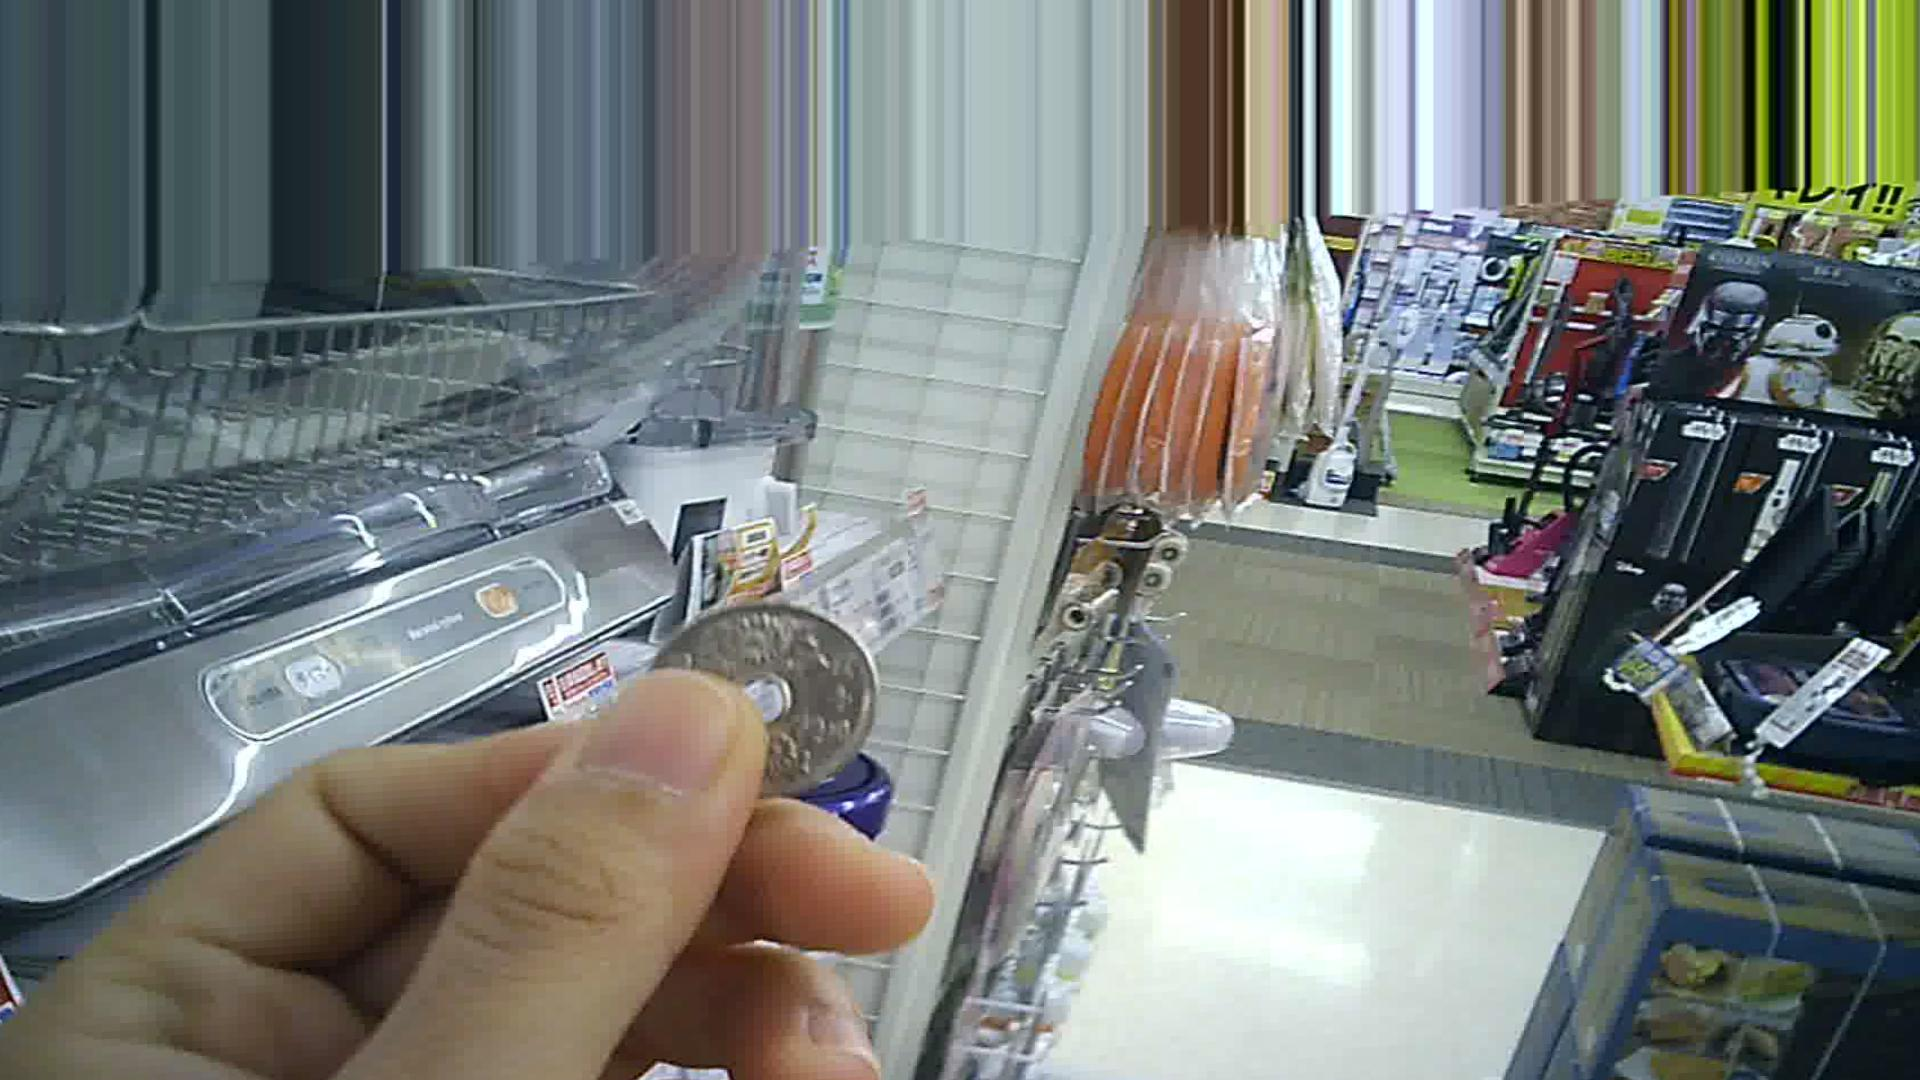50 Yen: (649, 580, 880, 787)
